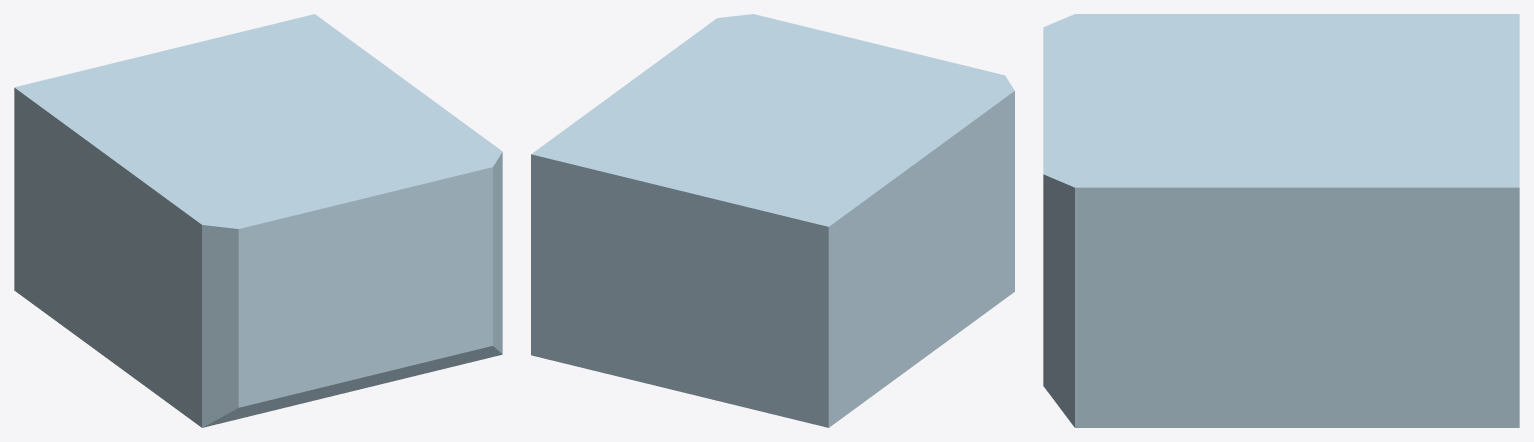
The model's file is STAM - M0-0.gltf.
3 views of the same model, side by side, from view 1: azimuth 30°, elevation 25°; view 2: azimuth 150°, elevation 25°; view 3: azimuth 270°, elevation 25° (orthographic). The views are drawn at different scales.
Visible parts, largest first — view 1: M0-0; view 2: M0-0; view 3: M0-0.
Part boxes in pixels (x1,y1,x2,y2): M0-0: (14, 14, 502, 427); M0-0: (531, 14, 1014, 427); M0-0: (1043, 14, 1519, 427).
Size of the model in its own units: 0.0129 by 0.00835 by 0.015.
